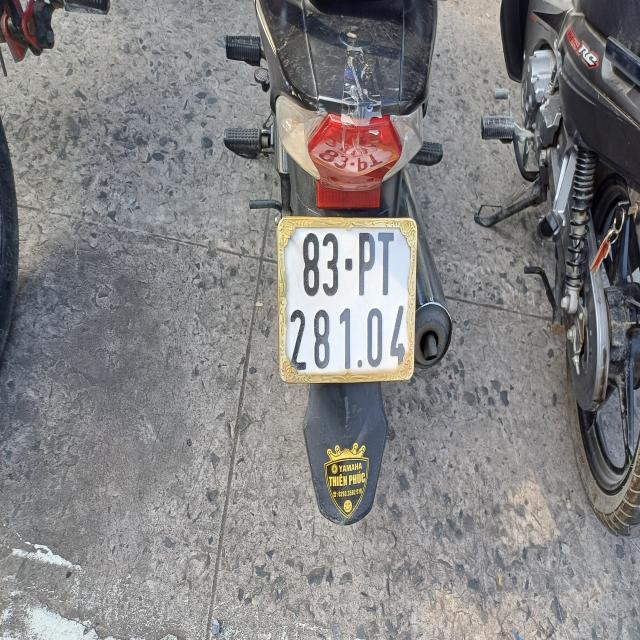0: (366, 308, 383, 370)
1: (338, 304, 352, 371)
2: (288, 308, 308, 370)
3: (322, 232, 339, 298)
4: (390, 304, 407, 369)
8: (312, 308, 330, 370), (303, 232, 319, 296)
P: (358, 230, 376, 299)
T: (377, 230, 395, 298)
